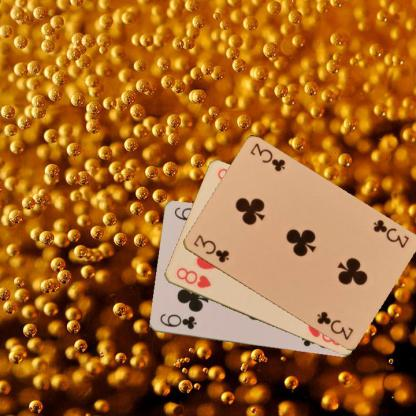3c: (370, 216, 410, 250), (191, 232, 231, 264)
6c: (156, 311, 198, 331)
8h: (174, 265, 214, 290)
